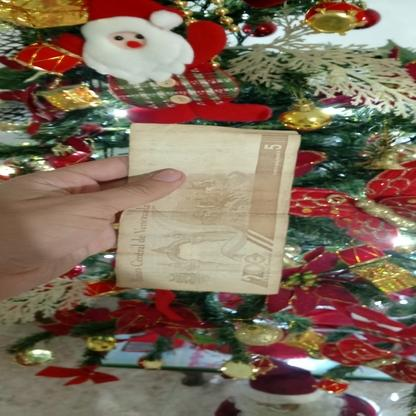five-back-vef: (114, 123, 300, 294)
